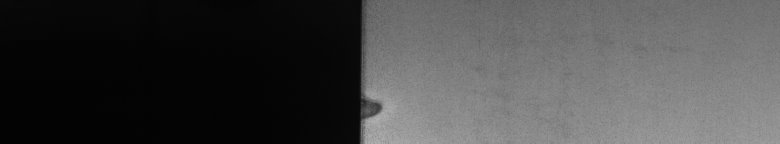hb: (372, 92, 389, 124)
